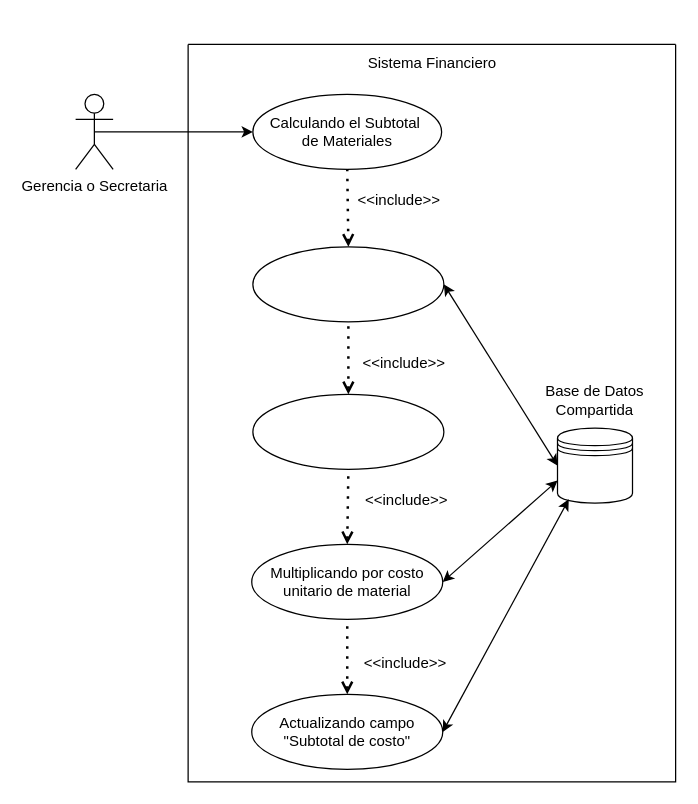
The diagram is 698 pixels wide and 804 high, and some of its shapes have lost their labels. The box of each missing label's shape, as (x1, y1, x2, y2) in pixels:
Ingresando cantidad numérica entera o decimal: (252, 393, 444, 469)
Seleccionando material del catálogo: (252, 246, 444, 322)
